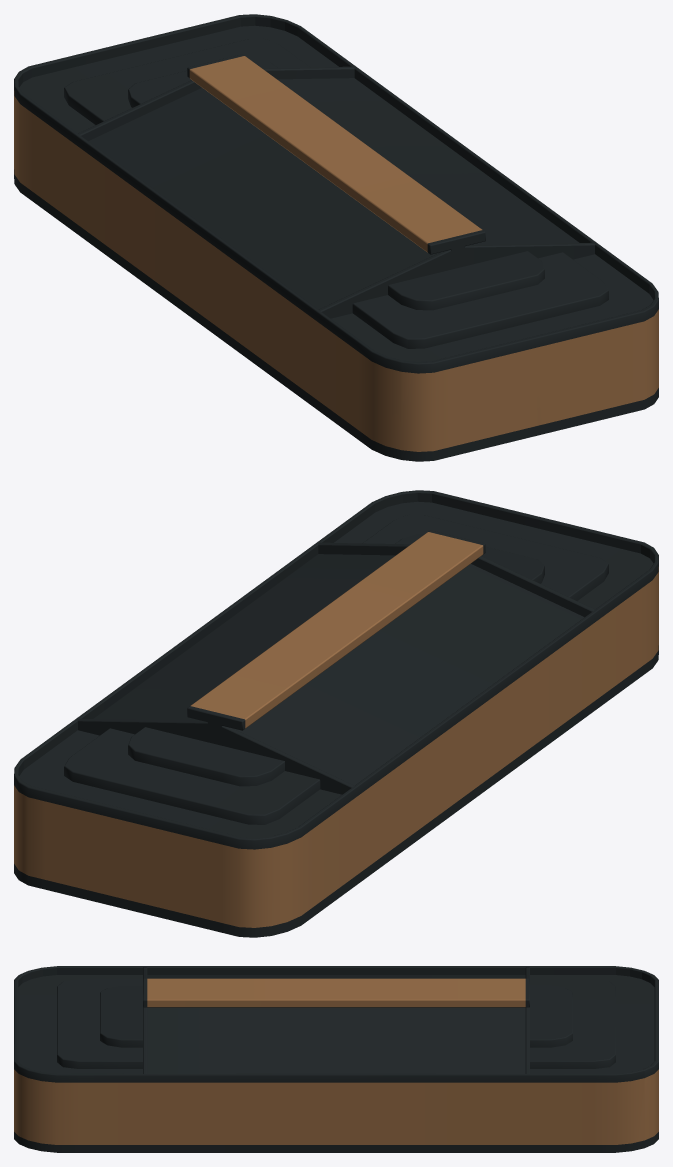
The model's file is Produce_Bin_Narrow_Col.glb.
3 renders of one model, top to bottom at view 1: azimuth 30°, elevation 25°; view 2: azimuth 150°, elevation 25°; view 3: azimuth 270°, elevation 25°, orthographic. The views are drawn at different scales.
Visible parts, largest first — view 1: Produce_Bin_Narrow_col; view 2: Produce_Bin_Narrow_col; view 3: Produce_Bin_Narrow_col.
Part boxes in pixels (x1,y1,x2,y2): Produce_Bin_Narrow_col: [14, 14, 658, 461]; Produce_Bin_Narrow_col: [14, 490, 658, 937]; Produce_Bin_Narrow_col: [14, 966, 658, 1152].
Size of the model in its own units: 3 by 1.4 by 7.5.
1 material, 1 textured.
